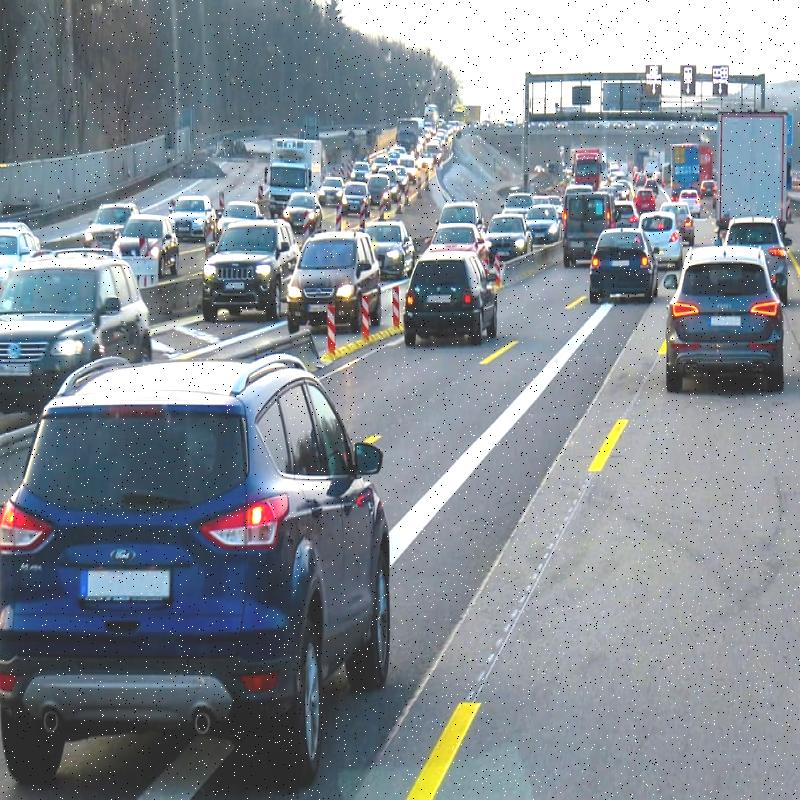car: (0, 352, 413, 798), (0, 235, 162, 398), (660, 235, 787, 399), (268, 225, 386, 348), (396, 230, 508, 355), (201, 204, 298, 330), (586, 222, 654, 310), (581, 215, 650, 299)
